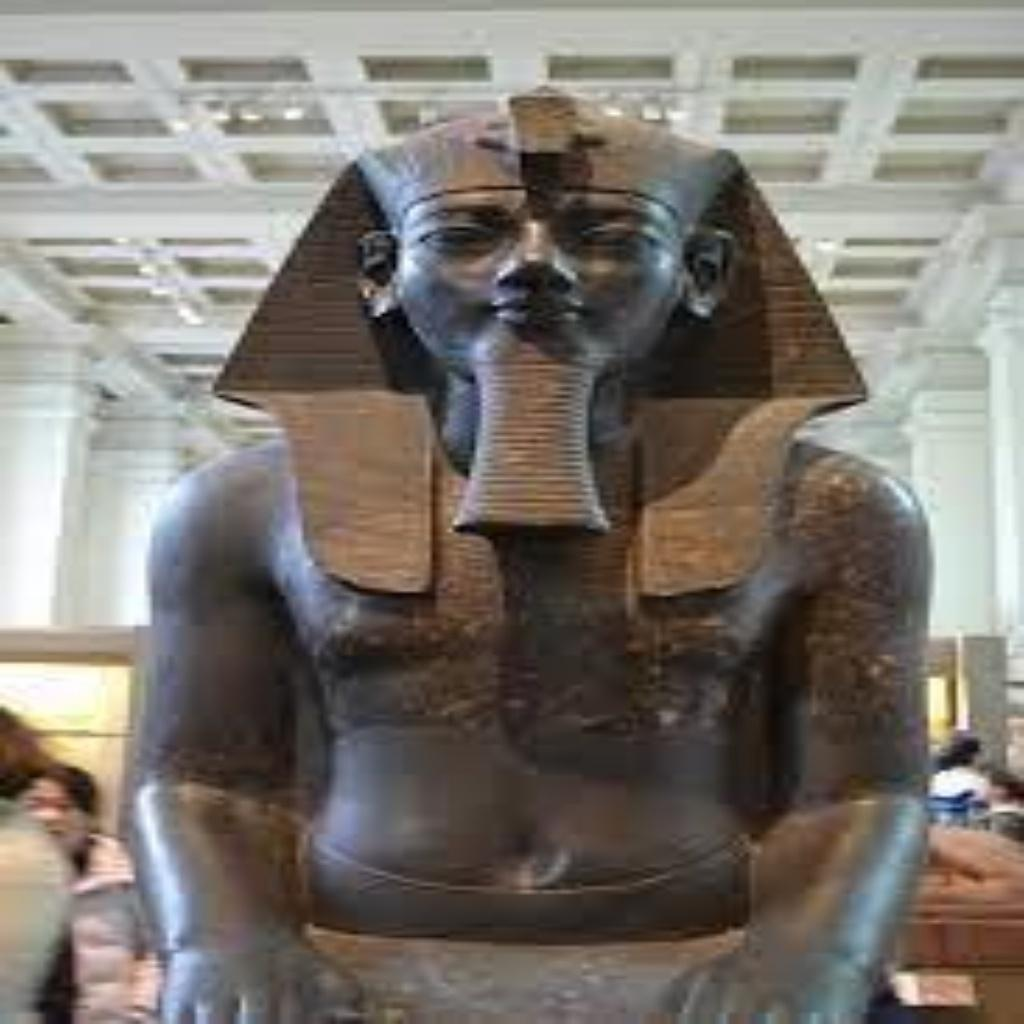Amenhotep III: (118, 86, 940, 1016)
